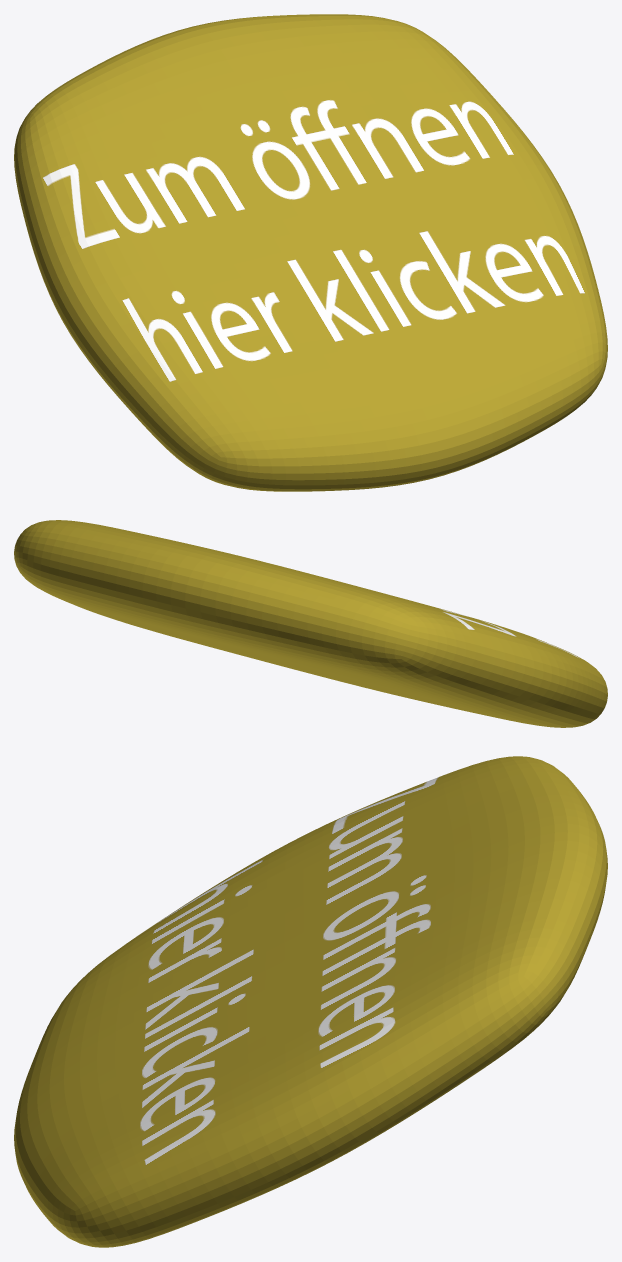
Rendered from button_to_open_and_close_lid.glb.
The picture shows the model from 3 angles, top to bottom: view 1: azimuth 30°, elevation 25°; view 2: azimuth 150°, elevation 25°; view 3: azimuth 270°, elevation 25°; orthographic projection. The views are drawn at different scales.
Parts seen in each view (by area): view 1: Cube; view 2: Cube; view 3: Cube.
Boxes of the visible parts, <box> form: Cube: <box>14,14,607,491</box>; Cube: <box>14,520,607,727</box>; Cube: <box>14,756,607,1247</box>.
Size of the model in its own units: 0.1347 by 0.075 by 0.1186.
1 material, 1 textured.
